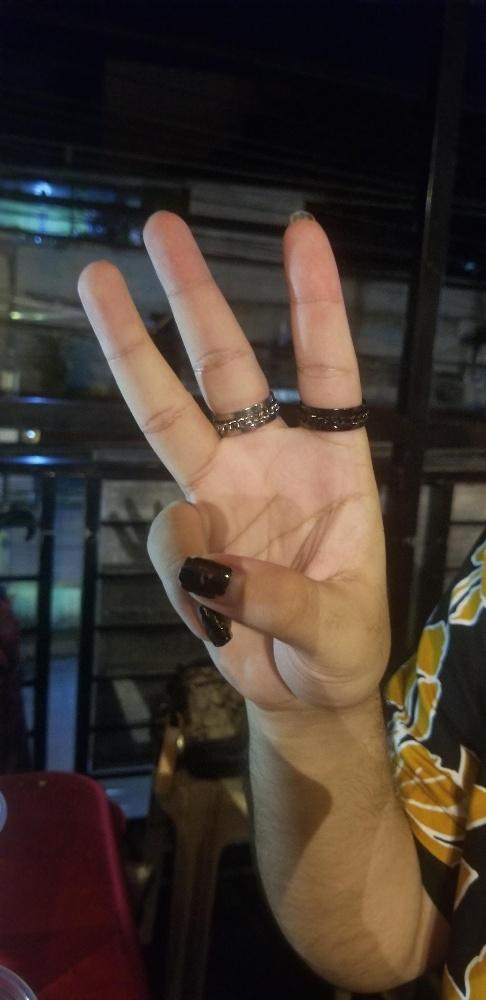w: (71, 210, 396, 704)
